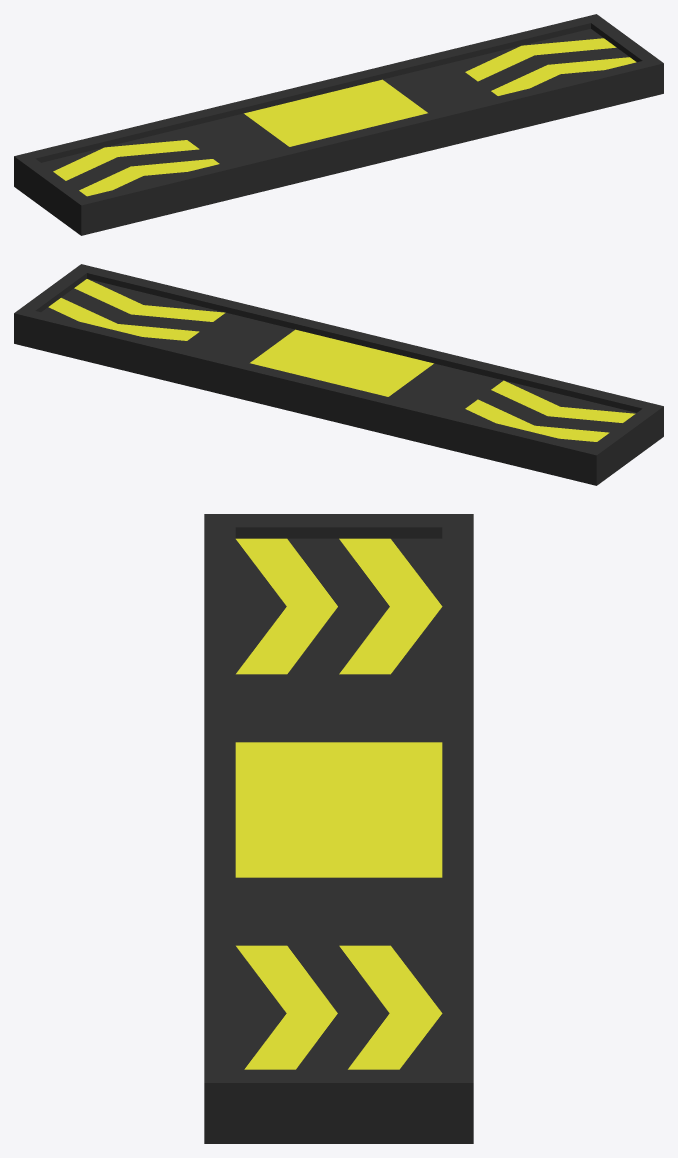
The model's file is TrackArrowPanelDown.fbx.
3 views of the same model, one above another, from view 1: azimuth 30°, elevation 25°; view 2: azimuth 150°, elevation 25°; view 3: azimuth 270°, elevation 25° (orthographic). The views are drawn at different scales.
Visible parts, largest first — view 1: TrackArrowPanelDown; view 2: TrackArrowPanelDown; view 3: TrackArrowPanelDown.
Boxes of the visible parts, <box> form: TrackArrowPanelDown: <box>14,14,663,235</box>; TrackArrowPanelDown: <box>14,264,663,485</box>; TrackArrowPanelDown: <box>204,514,473,1143</box>.
Bounding box in the file's own units: 20 × 1 × 4.
